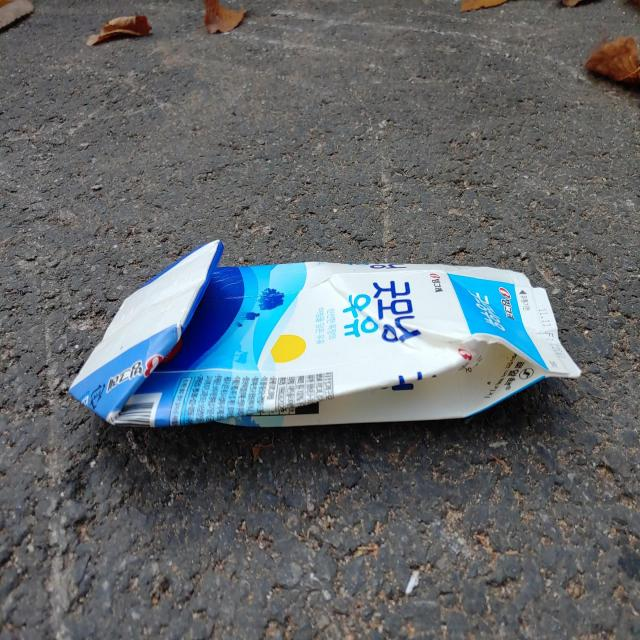paperpack: (69, 240, 582, 427)
